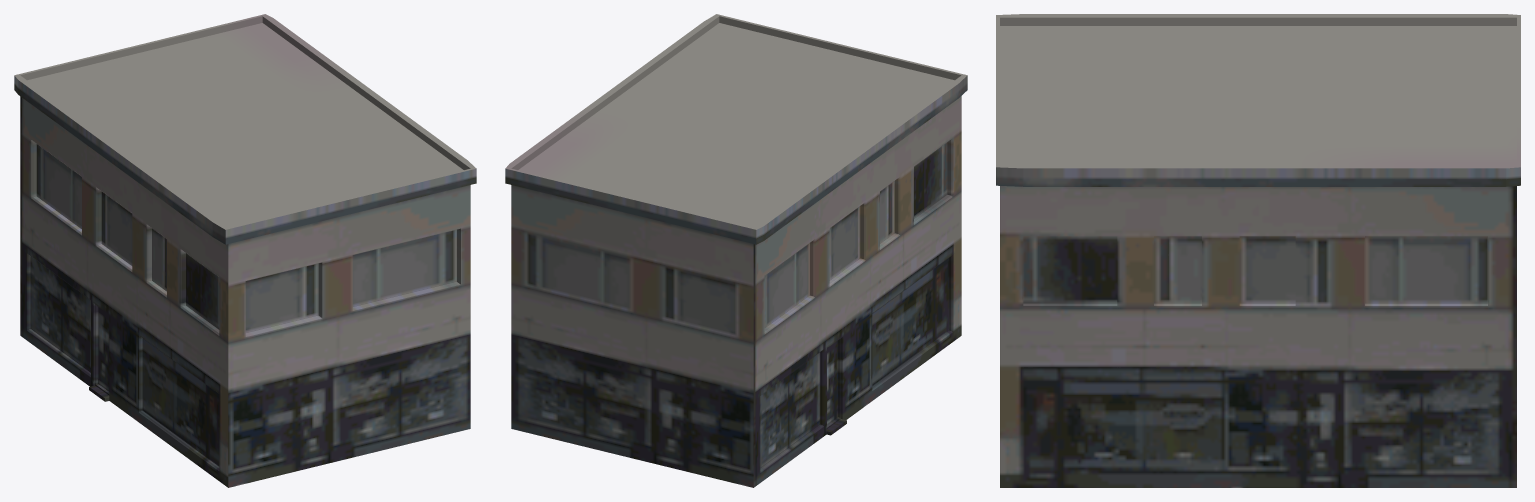
File: yk_uudetrakennukset_B.fbx
3 views of the same model, side by side, from view 1: azimuth 30°, elevation 25°; view 2: azimuth 150°, elevation 25°; view 3: azimuth 270°, elevation 25° (orthographic). The views are drawn at different scales.
Visible parts, largest first — view 1: Cube.001; view 2: Cube.001; view 3: Cube.001.
Boxes of the visible parts, left/top/right/bottom form: Cube.001: left=14, top=14, right=476, bottom=487; Cube.001: left=505, top=14, right=967, bottom=487; Cube.001: left=996, top=14, right=1520, bottom=487.
Bounding box in the file's own units: 210 × 205 × 302.
